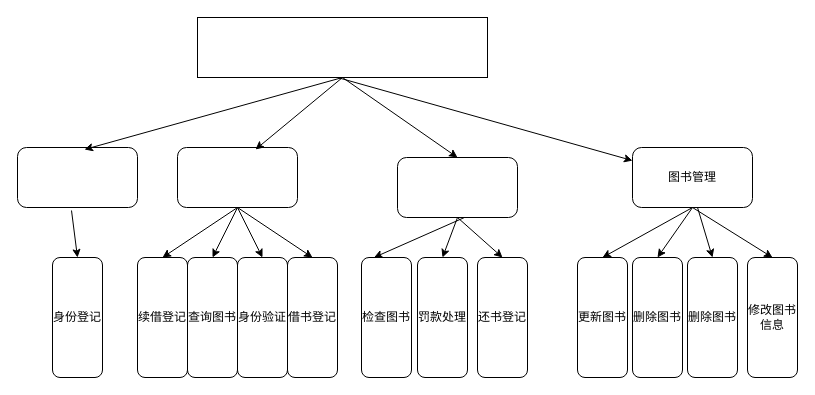
The diagram is 815 pixels wide and 395 high, and some of its shapes have lost their labels. Here are the shapes that lost their labels. From the top down, the box of each, then its label:
(196, 16, 488, 78): 学校图书馆借阅管理系统
(16, 146, 138, 208): 读者管理
(176, 146, 298, 208): 借书管理
(396, 156, 518, 218): 还书管理
